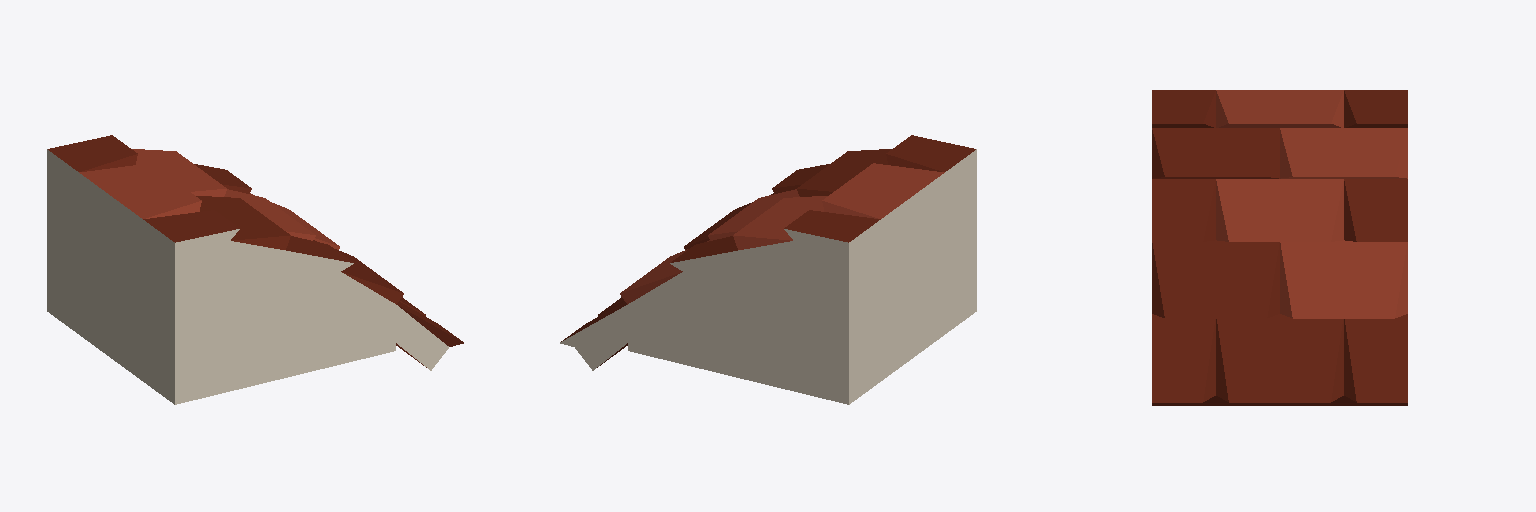
File: Roof_Convex_Side_Eave.obj
The picture shows the model from 3 angles: view 1: azimuth 30°, elevation 25°; view 2: azimuth 150°, elevation 25°; view 3: azimuth 270°, elevation 25°; orthographic projection.
Visible parts, largest first — view 1: object1; view 2: object1; view 3: object1.
Part boxes in pixels (x1,y1,x2,y2): object1: (47, 135, 463, 404); object1: (560, 135, 976, 404); object1: (1152, 90, 1407, 405).
Size of the model in its own units: 1.31 by 0.8233 by 1.